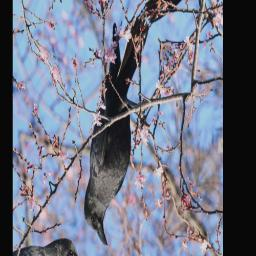Crow: (36, 0, 197, 253)
